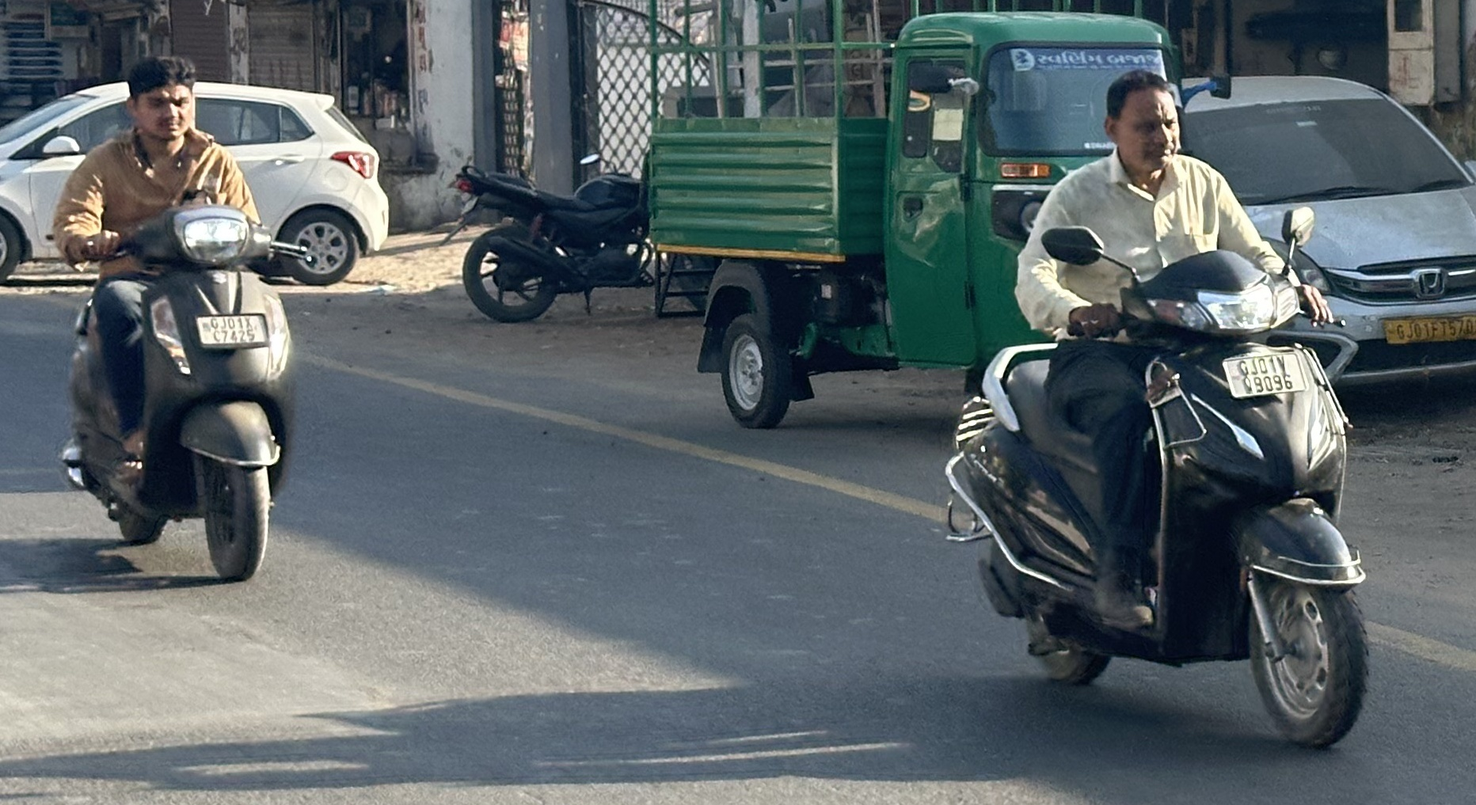BikeWithRider: (930, 59, 1383, 759), (40, 46, 327, 590)
NoHelmet: (1089, 63, 1199, 184), (114, 51, 208, 150)
